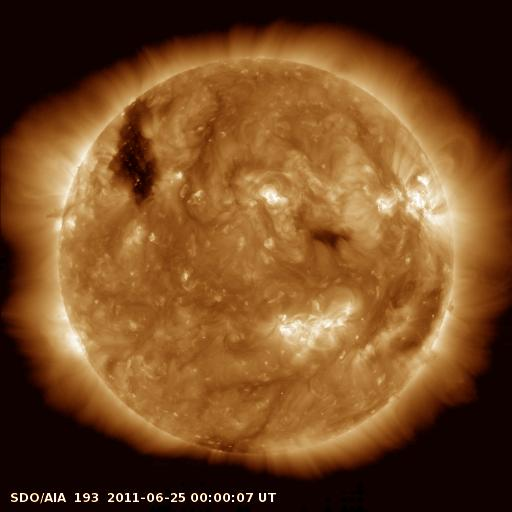coronal_hole: (105, 100, 167, 210), (300, 219, 355, 251)
